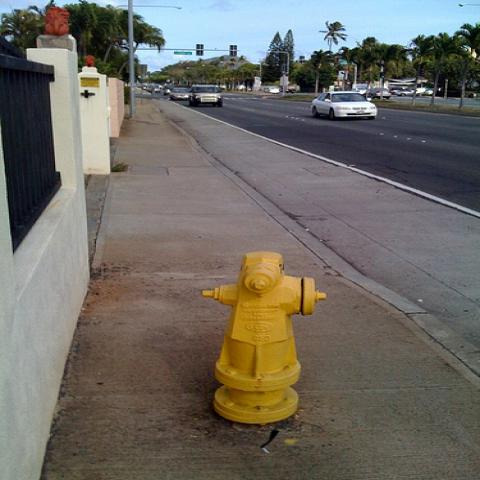car: (310, 90, 378, 120), (187, 84, 223, 108), (369, 88, 391, 100), (350, 85, 367, 100), (169, 88, 189, 100), (392, 87, 414, 97), (416, 87, 433, 96), (147, 84, 161, 94), (269, 87, 280, 95)
